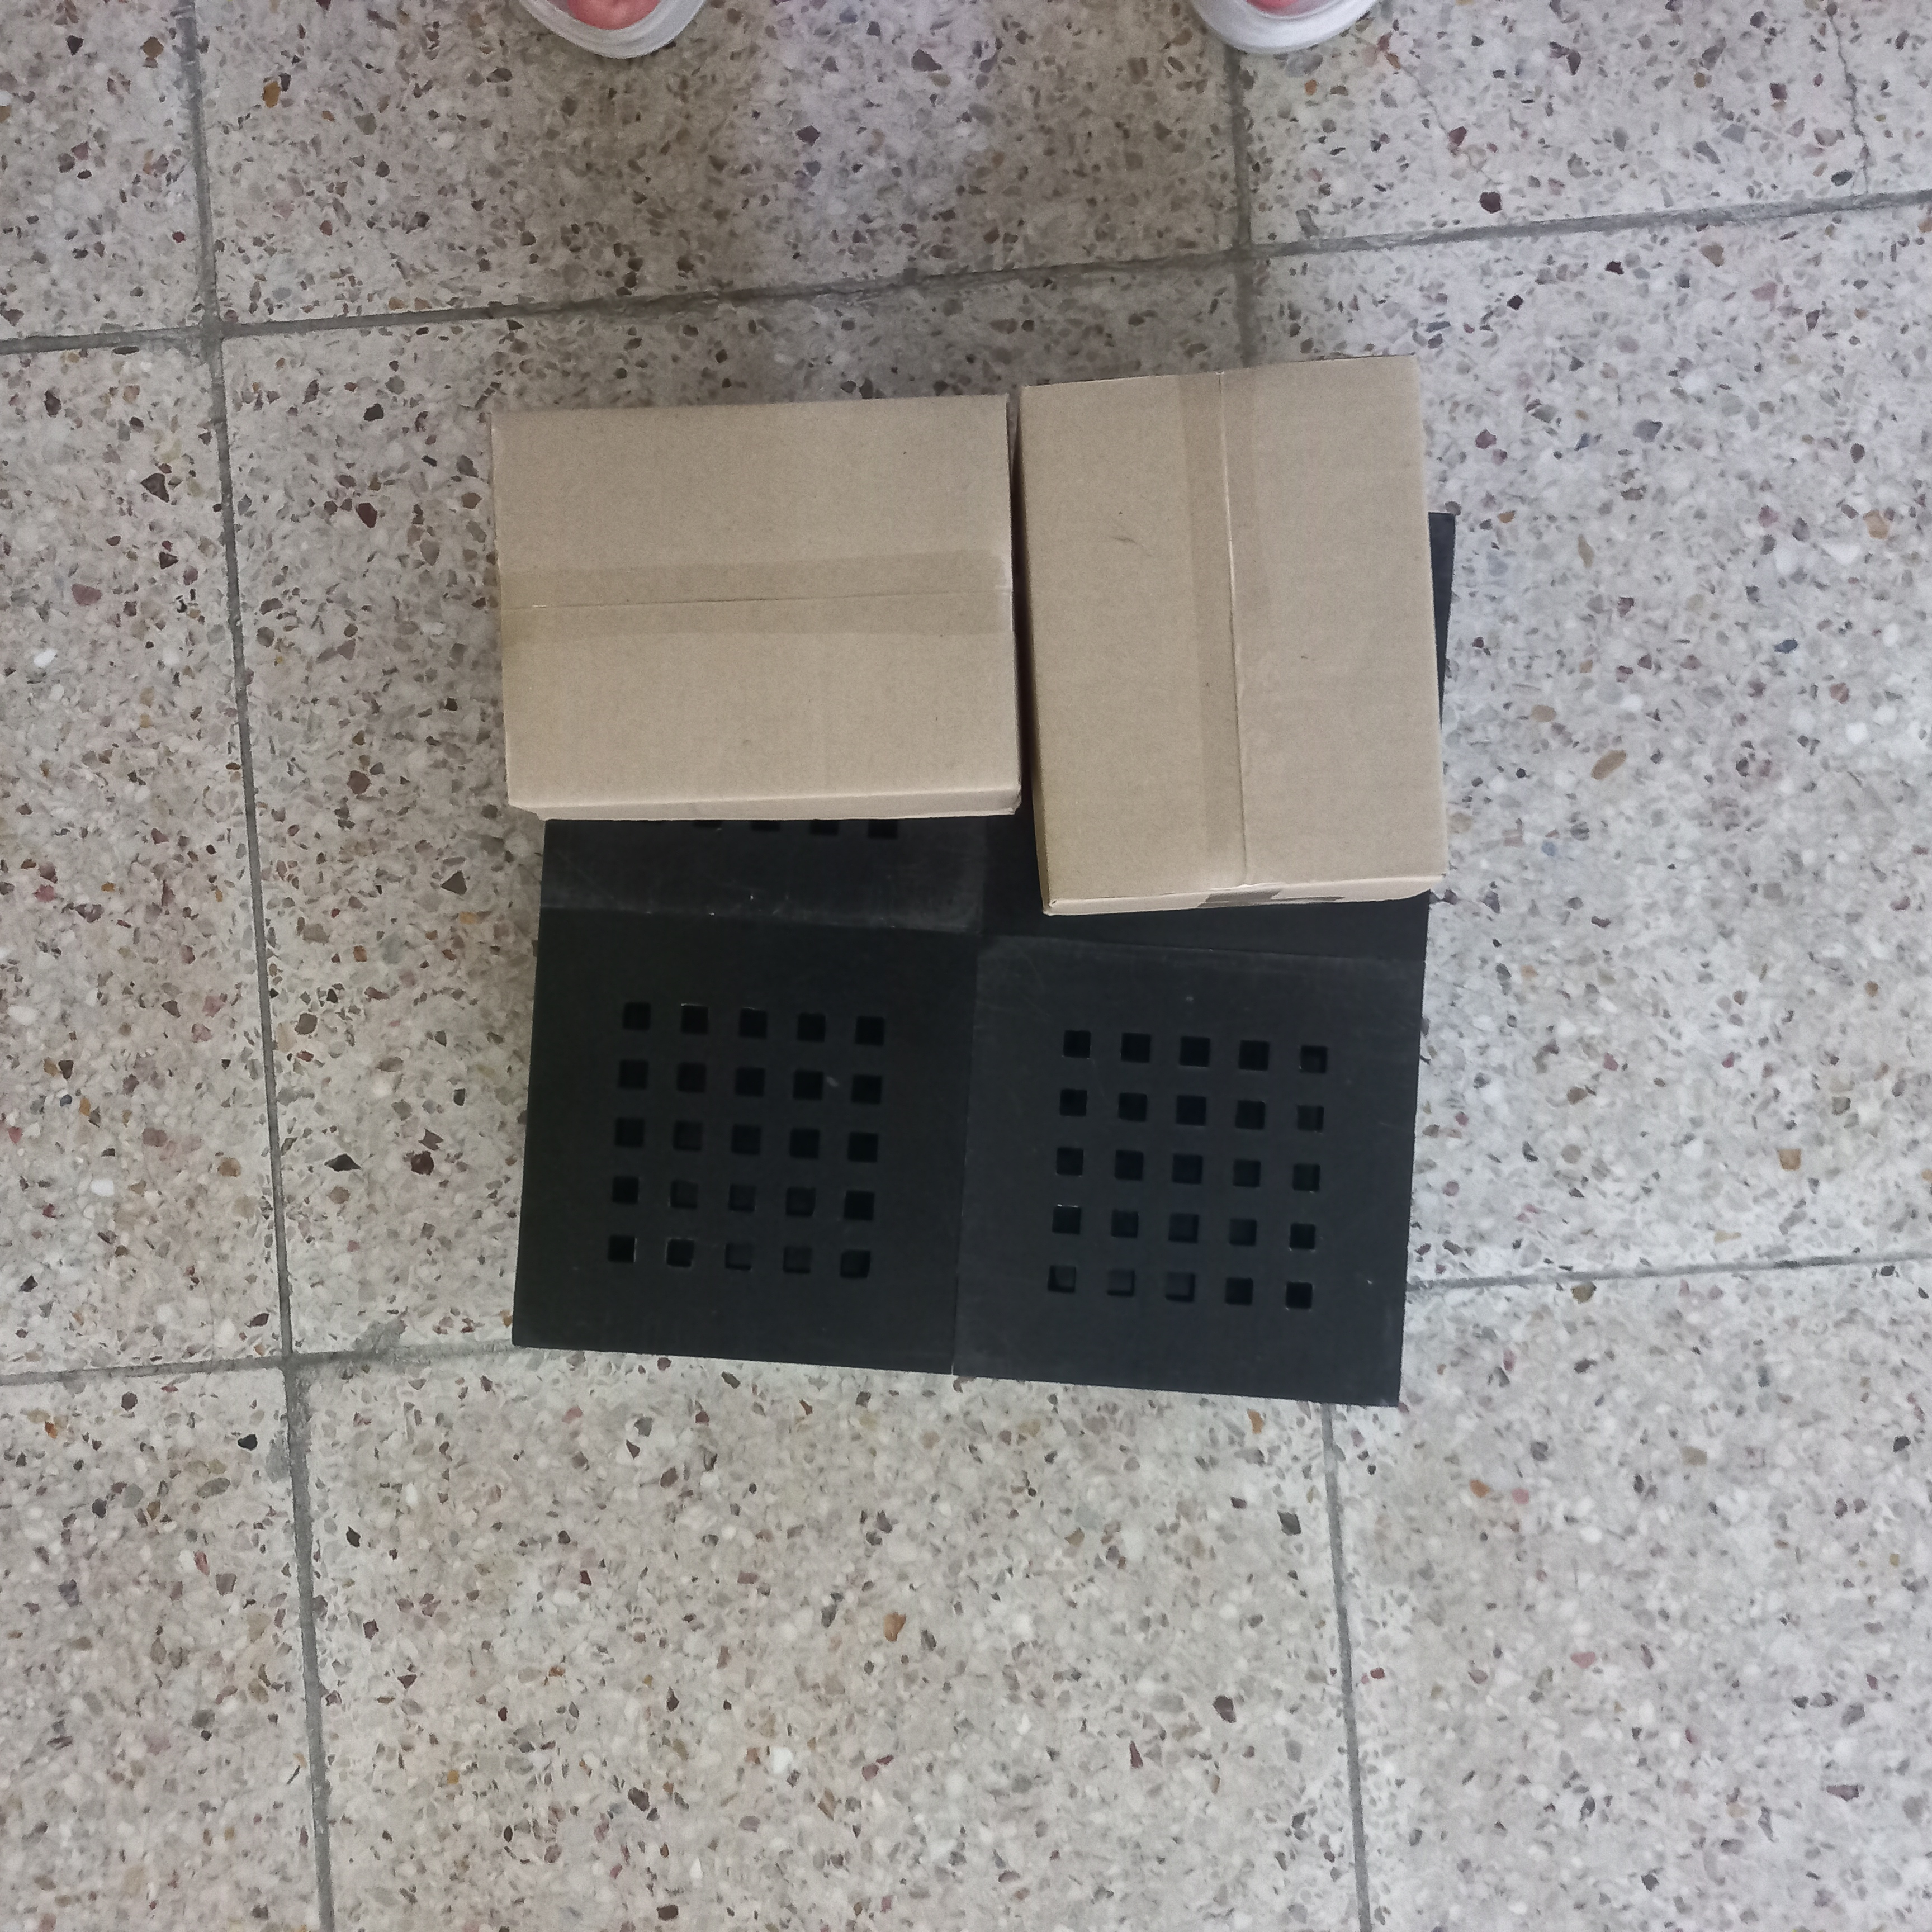box: (1010, 350, 1453, 926), (482, 389, 1024, 825)
